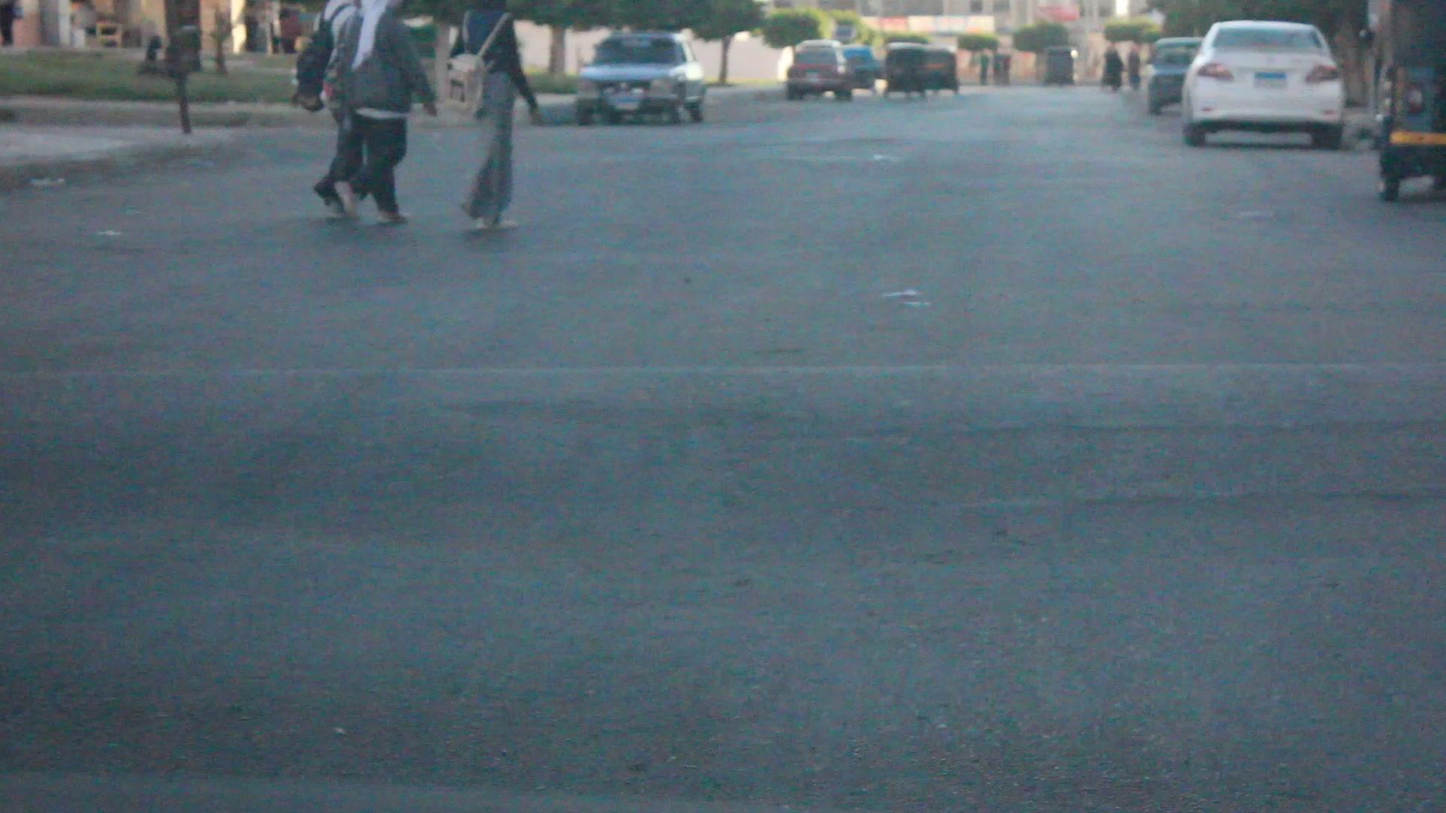Bump: (0, 555, 1444, 785), (9, 367, 1446, 510)
